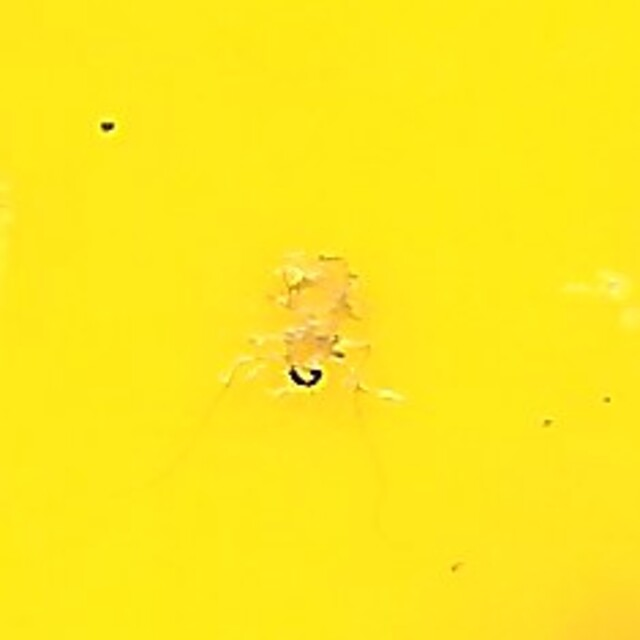Nematocera: (272, 250, 368, 390)
